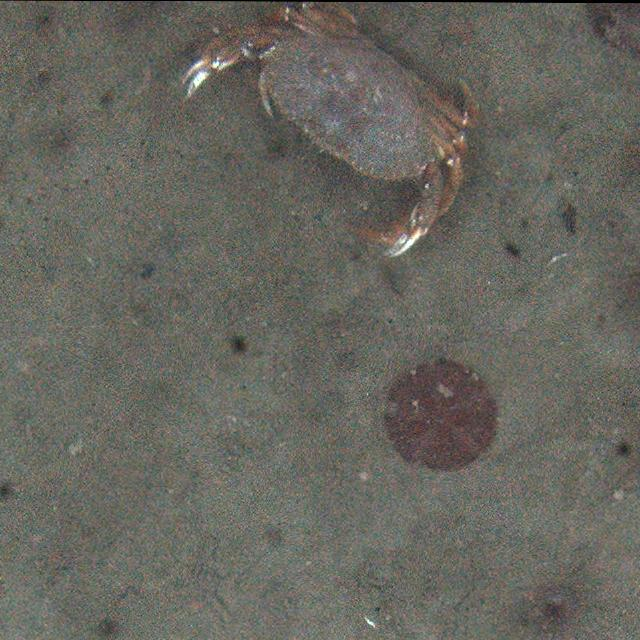crab: (174, 2, 482, 264)
